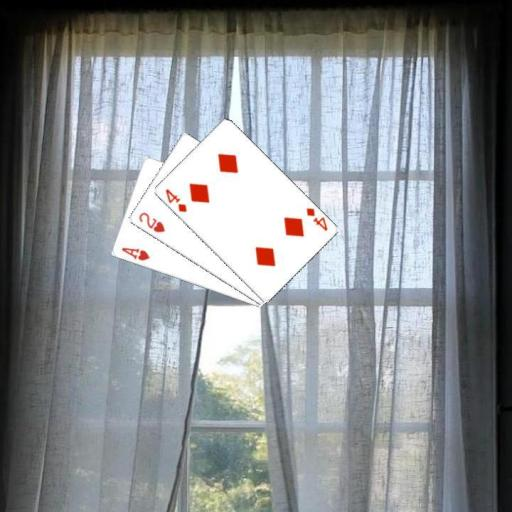2H: (135, 209, 167, 234)
4D: (161, 186, 188, 213), (303, 204, 328, 233)
AH: (118, 245, 151, 263)
